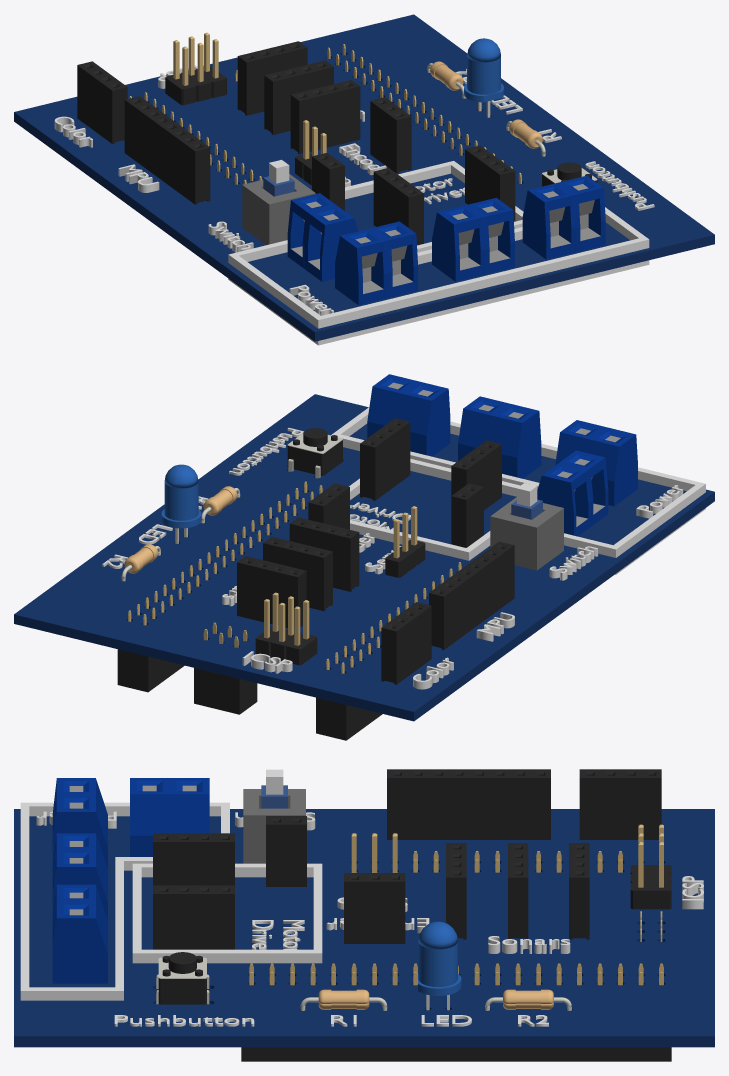
File: ViZio_PCB.glb
The picture shows the model from 3 angles, top to bottom: view 1: azimuth 30°, elevation 25°; view 2: azimuth 150°, elevation 25°; view 3: azimuth 270°, elevation 25°; orthographic projection. The views are drawn at different scales.
Parts seen in each view (by area): view 1: Cube; view 2: Cube; view 3: Cube.
Boxes of the visible parts, <box> form: Cube: <box>14,14,714,345</box>; Cube: <box>14,374,714,740</box>; Cube: <box>14,769,714,1061</box>.
Bounding box in the file's own units: 7.09 × 2.32 × 9.24.
